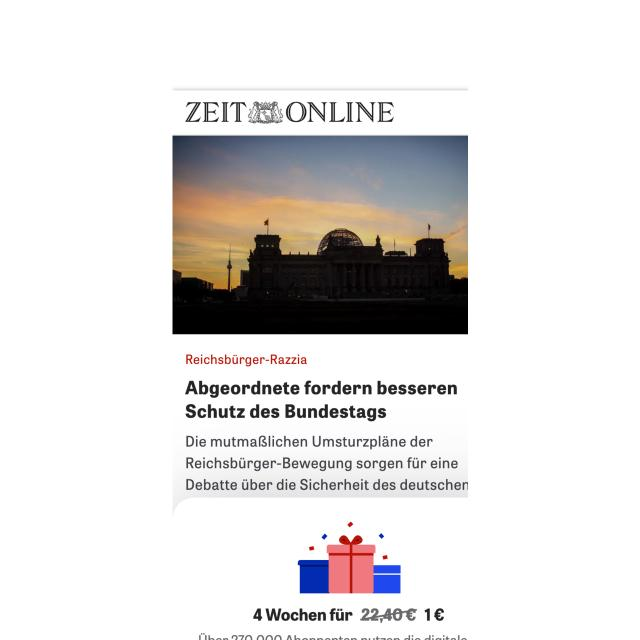logo: (182, 95, 397, 126)
